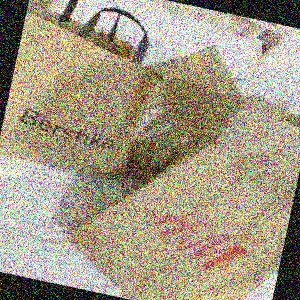bershka: (120, 50, 130, 148)
